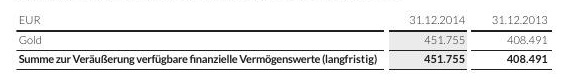table: (0, 0, 568, 81)
